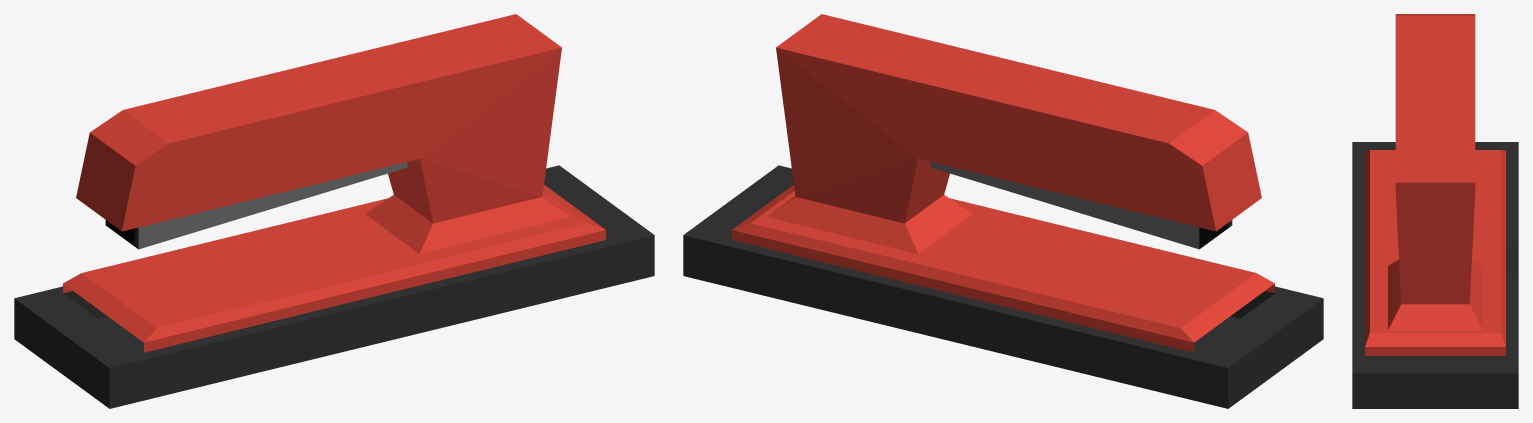
The model's file is Grapadora.fbx.
3 renders of one model, left to right at view 1: azimuth 30°, elevation 25°; view 2: azimuth 150°, elevation 25°; view 3: azimuth 270°, elevation 25°, orthographic. The views are drawn at different scales.
Parts seen in each view (by area): view 1: Grapadora; view 2: Grapadora; view 3: Grapadora.
Part boxes in pixels (left/top/right/bottom): Grapadora: left=14, top=14, right=654, bottom=408; Grapadora: left=683, top=14, right=1323, bottom=408; Grapadora: left=1352, top=14, right=1518, bottom=408.
Bounding box in the file's own units: 24.08 × 9.58 × 7.31.
